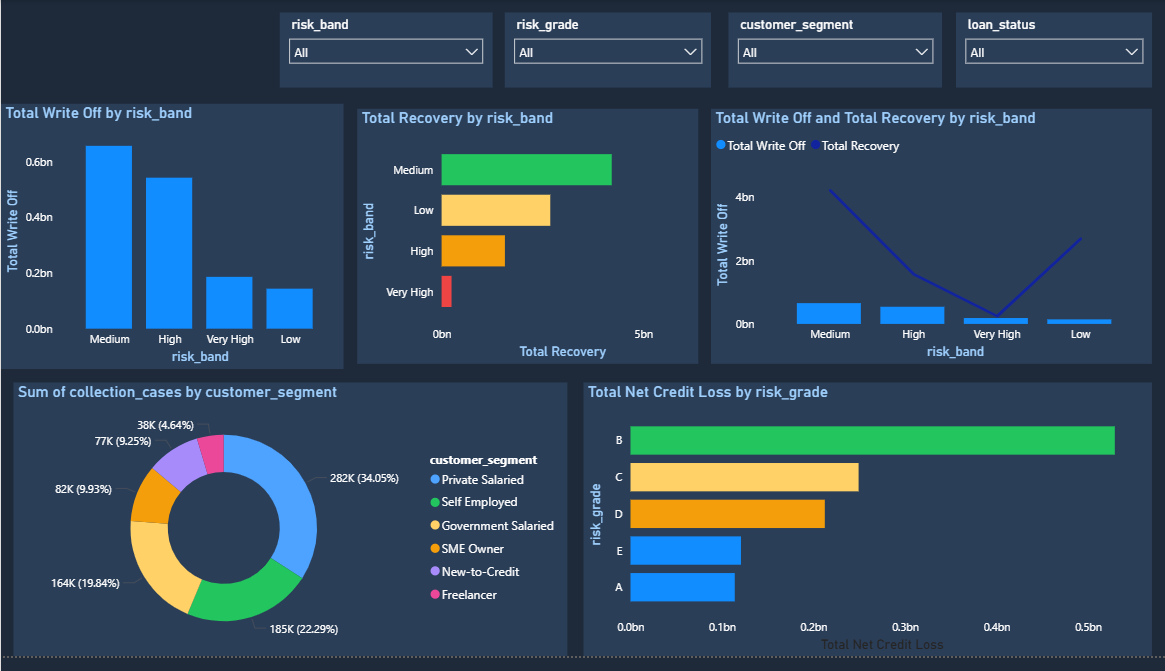

This screenshot's page, from the dashboard's own definition file:
{"tool":"powerbi","page":{"name":"Collection & Recovery Dashboard","canvas":[1280,720],"ordinal":2},"visuals":[{"type":"clusteredBarChart","fields":{"Category":["powerbi_credit_risk_dataset.risk_band"],"Y":["powerbi_credit_risk_dataset.Total Recovery"]},"box":[391.1,119.4,374.6,279.9],"z":0},{"type":"clusteredColumnChart","fields":{"Category":["powerbi_credit_risk_dataset.risk_band"],"Y":["powerbi_credit_risk_dataset.Total Write Off"]},"box":[0,113.9,376,290.9],"z":1000},{"type":"barChart","fields":{"Category":["powerbi_credit_risk_dataset.risk_grade"],"Y":["powerbi_credit_risk_dataset.Total Net Credit Loss"]},"box":[639.5,419.9,624.4,300.5],"z":2000},{"type":"lineClusteredColumnComboChart","fields":{"Category":["powerbi_credit_risk_dataset.risk_band"],"Y":["powerbi_credit_risk_dataset.Total Write Off"],"Y2":["powerbi_credit_risk_dataset.Total Recovery"]},"box":[779.4,119.4,484.4,279.9],"z":3000},{"type":"donutChart","fields":{"Category":["powerbi_credit_risk_dataset.customer_segment"],"Y":["Sum(powerbi_credit_risk_dataset.collection_cases)"]},"box":[13.7,419.9,607.9,300.5],"z":4000},{"type":"slicer","fields":{"Values":["powerbi_credit_risk_dataset.risk_band"]},"box":[306,13.7,233.3,82.3],"z":5000},{"type":"slicer","fields":{"Values":["powerbi_credit_risk_dataset.risk_grade"]},"box":[553,13.7,226.4,82.3],"z":6000},{"type":"slicer","fields":{"Values":["powerbi_credit_risk_dataset.customer_segment"]},"box":[798.6,13.7,234.6,82.3],"z":7000},{"type":"slicer","fields":{"Values":["powerbi_credit_risk_dataset.loan_status"]},"box":[1048.4,13.7,215.4,82.3],"z":8000}]}

Visuals, with their boxes in screenshot pixels (x1, y1, x2, y2), scaled from the page's 1280x720 canvas onto the 1165x671 screenshot:
clusteredBarChart - powerbi_credit_risk_dataset.risk_band x powerbi_credit_risk_dataset.Total Recovery: box=[356, 111, 697, 372]
clusteredColumnChart - powerbi_credit_risk_dataset.risk_band x powerbi_credit_risk_dataset.Total Write Off: box=[0, 106, 342, 377]
barChart - powerbi_credit_risk_dataset.risk_grade x powerbi_credit_risk_dataset.Total Net Credit Loss: box=[582, 391, 1150, 670]
lineClusteredColumnComboChart - powerbi_credit_risk_dataset.risk_band x powerbi_credit_risk_dataset.Total Write Off: box=[709, 111, 1150, 372]
donutChart - powerbi_credit_risk_dataset.customer_segment x Sum(powerbi_credit_risk_dataset.collection_cases): box=[12, 391, 566, 670]
slicer - powerbi_credit_risk_dataset.risk_band: box=[279, 13, 491, 89]
slicer - powerbi_credit_risk_dataset.risk_grade: box=[503, 13, 709, 89]
slicer - powerbi_credit_risk_dataset.customer_segment: box=[727, 13, 940, 89]
slicer - powerbi_credit_risk_dataset.loan_status: box=[954, 13, 1150, 89]
